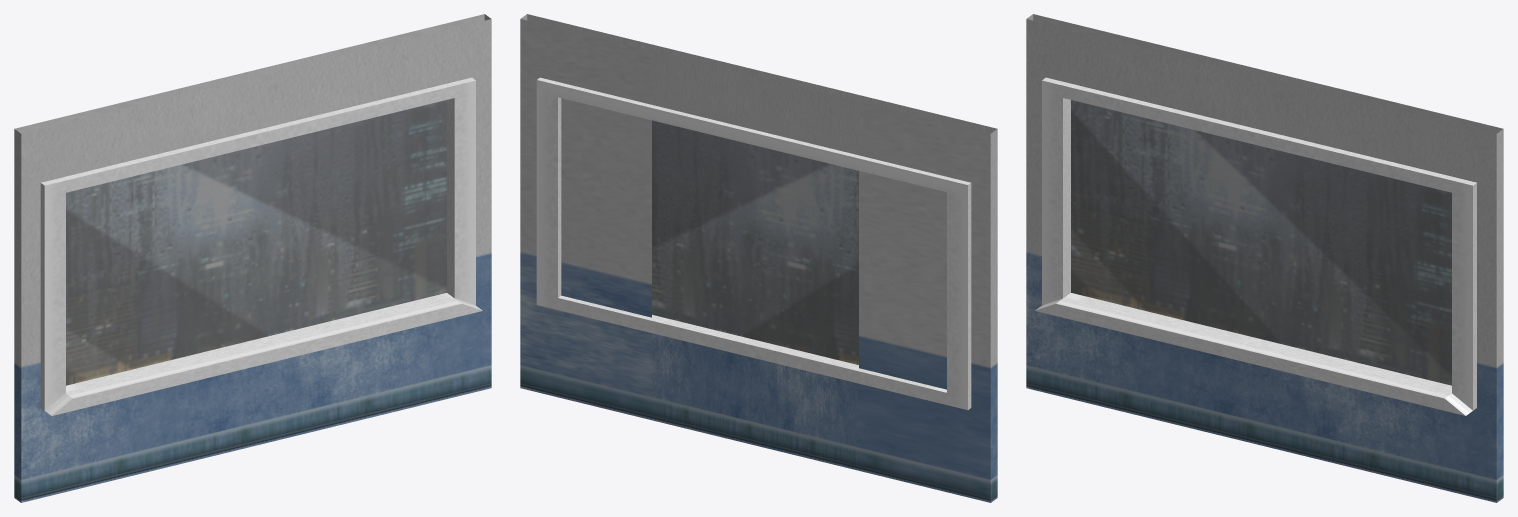
File: Wall_medium_fenetreB.FBX
3 views of the same model, side by side, from view 1: azimuth 30°, elevation 25°; view 2: azimuth 150°, elevation 25°; view 3: azimuth 330°, elevation 25° (orthographic).
Visible parts, largest first — view 1: Wall_medium_FenetresB_4m; view 2: Wall_medium_FenetresB_4m; view 3: Wall_medium_FenetresB_4m.
Boxes of the visible parts, <box> form: Wall_medium_FenetresB_4m: <box>14,14,491,502</box>; Wall_medium_FenetresB_4m: <box>520,14,997,502</box>; Wall_medium_FenetresB_4m: <box>1026,14,1503,502</box>.
Size of the model in its own units: 262 by 197 by 20.55.
